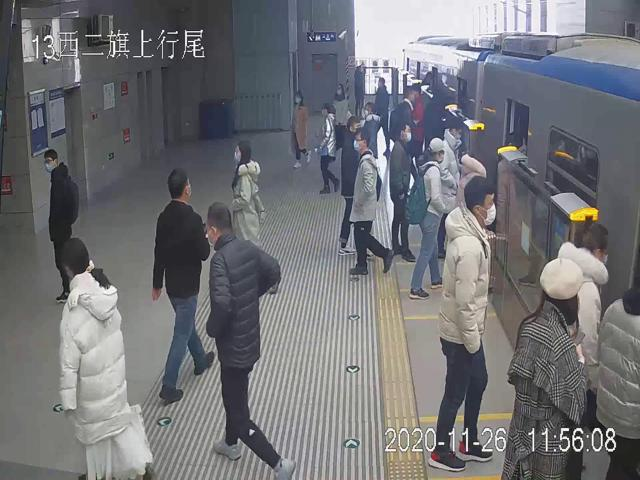person: (203, 200, 296, 478), (427, 176, 496, 471), (506, 259, 588, 480), (59, 237, 133, 480), (152, 167, 215, 402), (350, 127, 394, 276), (410, 136, 446, 300), (43, 147, 80, 305), (389, 119, 419, 261), (231, 142, 266, 251), (318, 102, 340, 196)
